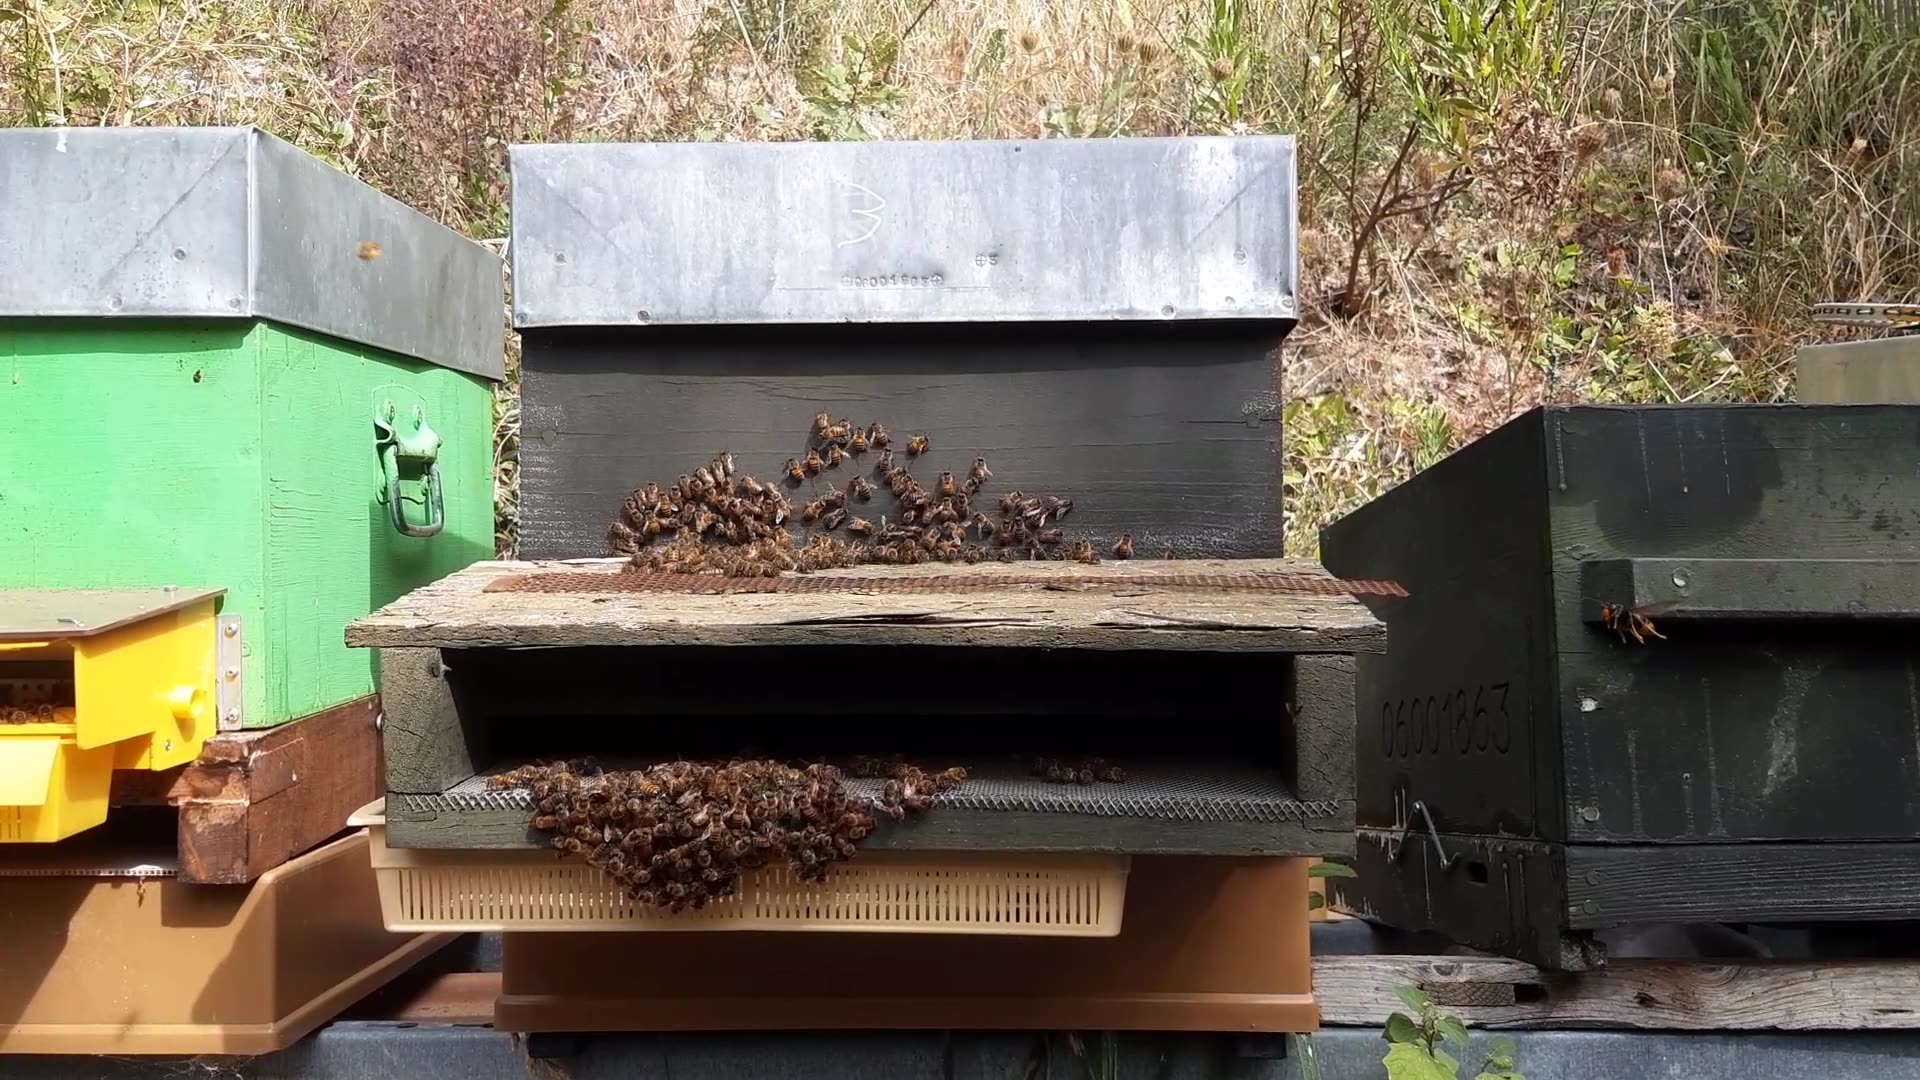bee: (496, 782, 585, 853), (636, 847, 723, 914), (705, 467, 783, 522), (1309, 269, 1371, 338), (819, 510, 903, 558), (832, 477, 905, 526), (1014, 516, 1084, 564), (735, 520, 804, 567), (942, 463, 1002, 516), (612, 509, 678, 556), (640, 752, 723, 789), (945, 517, 1004, 560), (815, 419, 877, 458), (666, 477, 716, 520), (489, 339, 526, 382)
